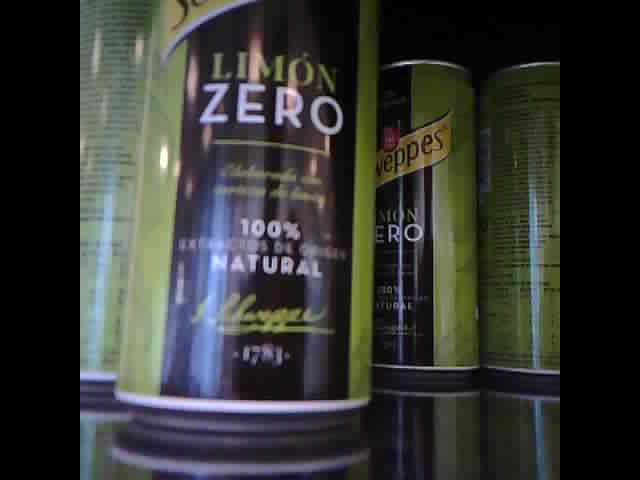schweppes: (115, 1, 377, 423), (372, 62, 481, 378), (80, 2, 153, 391), (486, 52, 560, 379)
